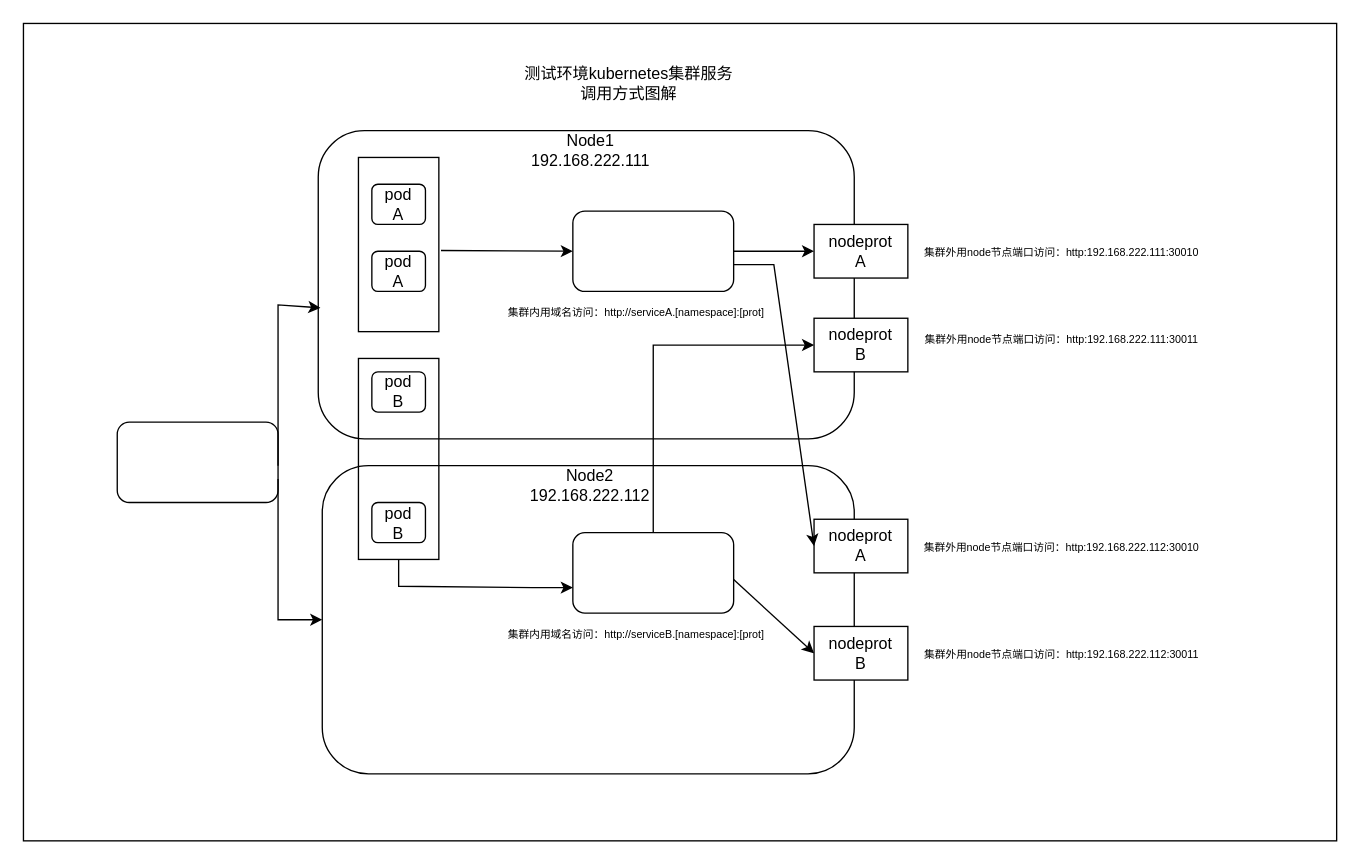
Image size: 1360x864. Some labels were removed from this diagram. The centre of each missing label's shape, as x and y in pixels:
master节点: the point at 197,462
service A: the point at 653,250
service B: the point at 653,572
